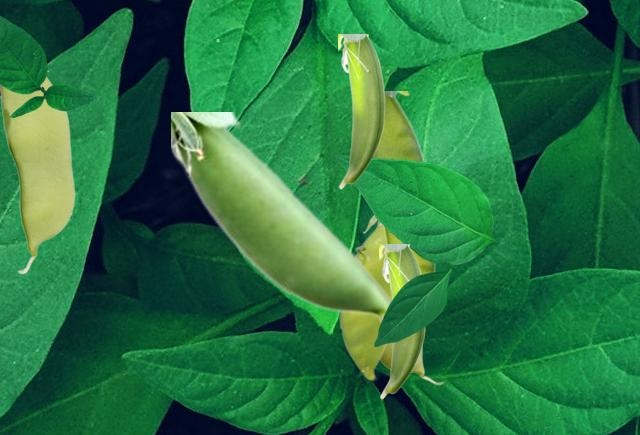pea: (171, 112, 390, 323), (0, 70, 74, 273), (362, 215, 443, 384), (374, 91, 436, 273), (339, 224, 389, 379), (379, 244, 426, 398), (338, 34, 385, 188)
